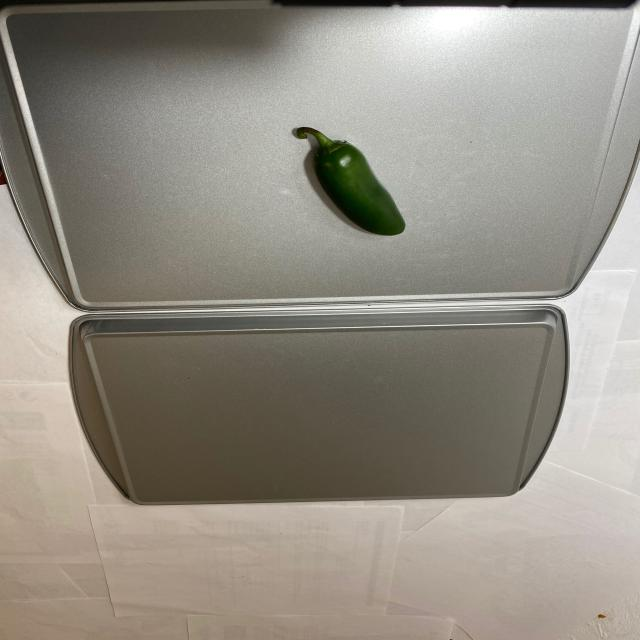chilli: (287, 116, 411, 237)
